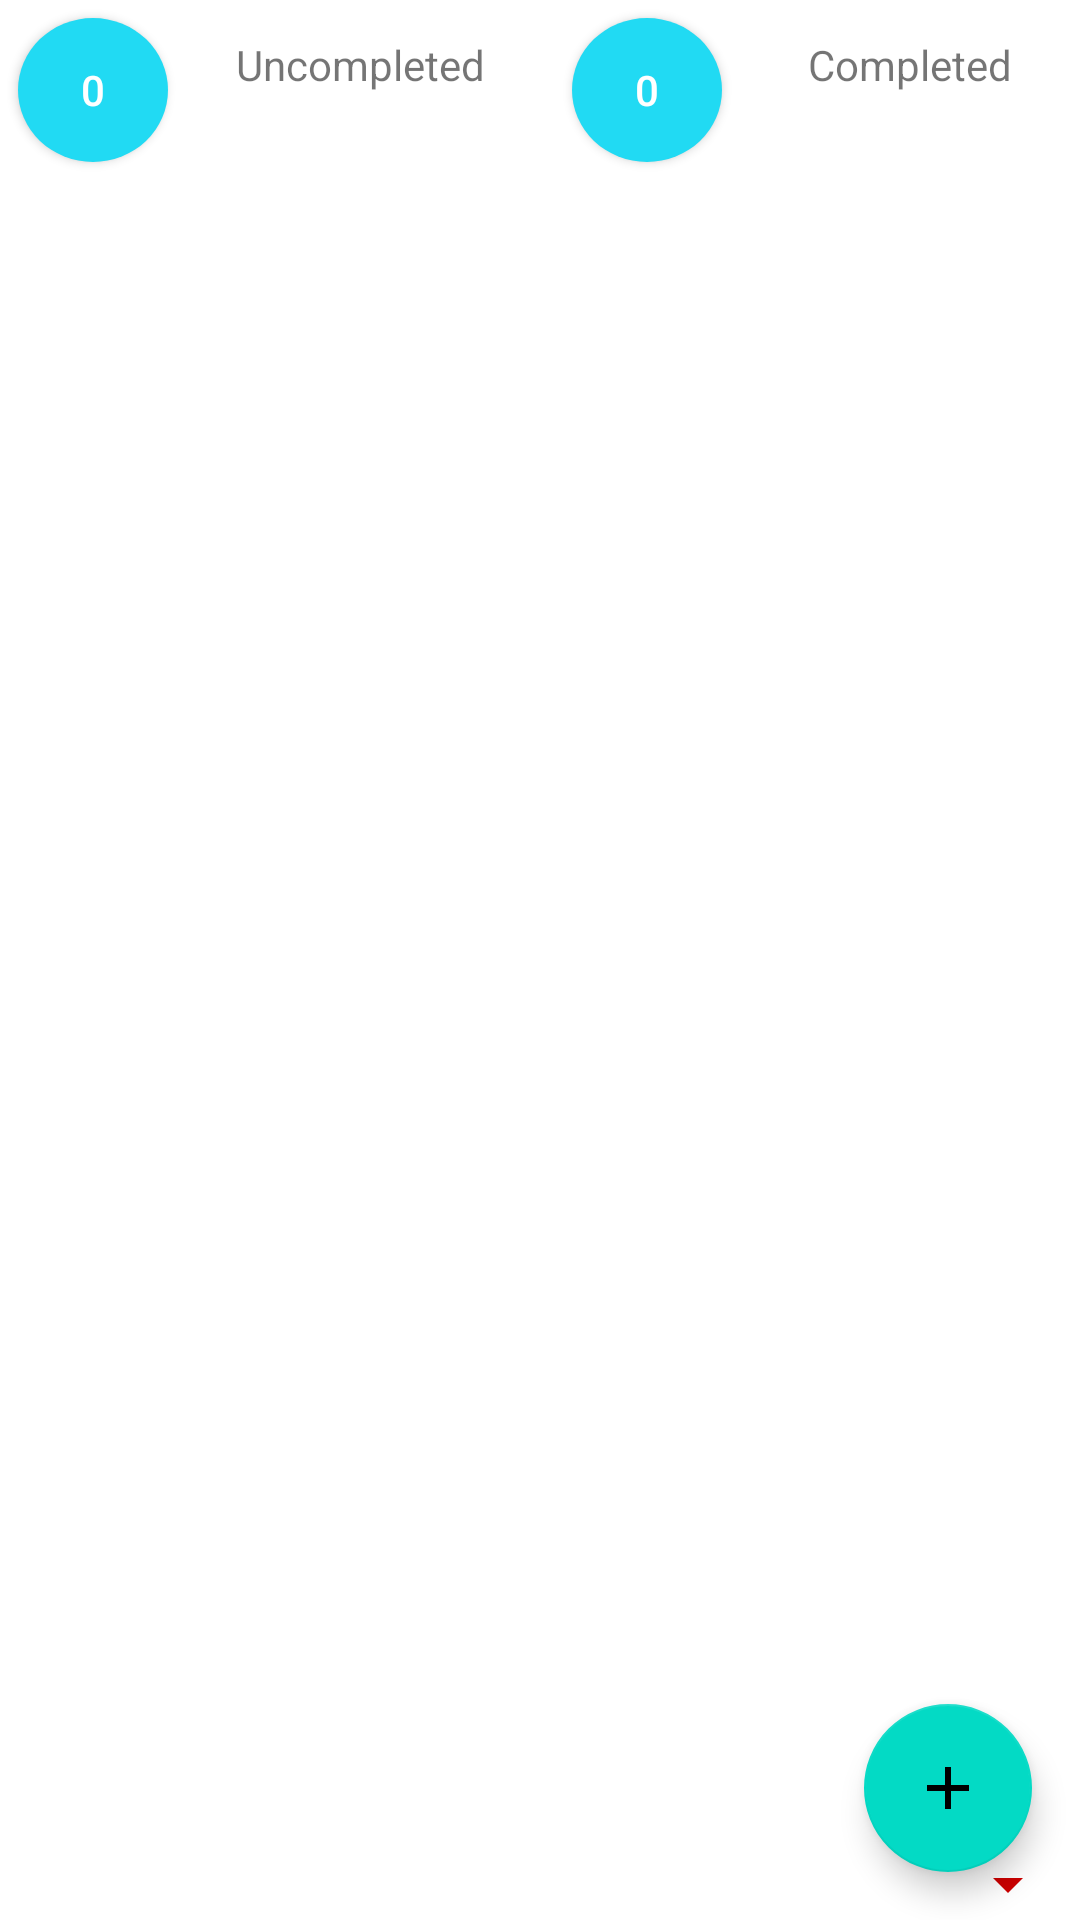

Locate icon controls on the screen. Image size 1080×1920, boxes as (x1, y1, x2, y2).
plus: (864, 1704, 1032, 1872)
